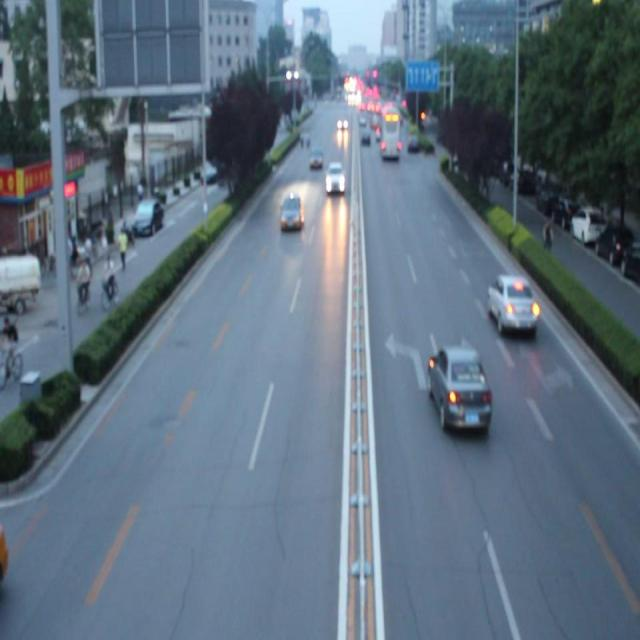car: (426, 345, 491, 434), (486, 273, 538, 333), (280, 193, 304, 230)
